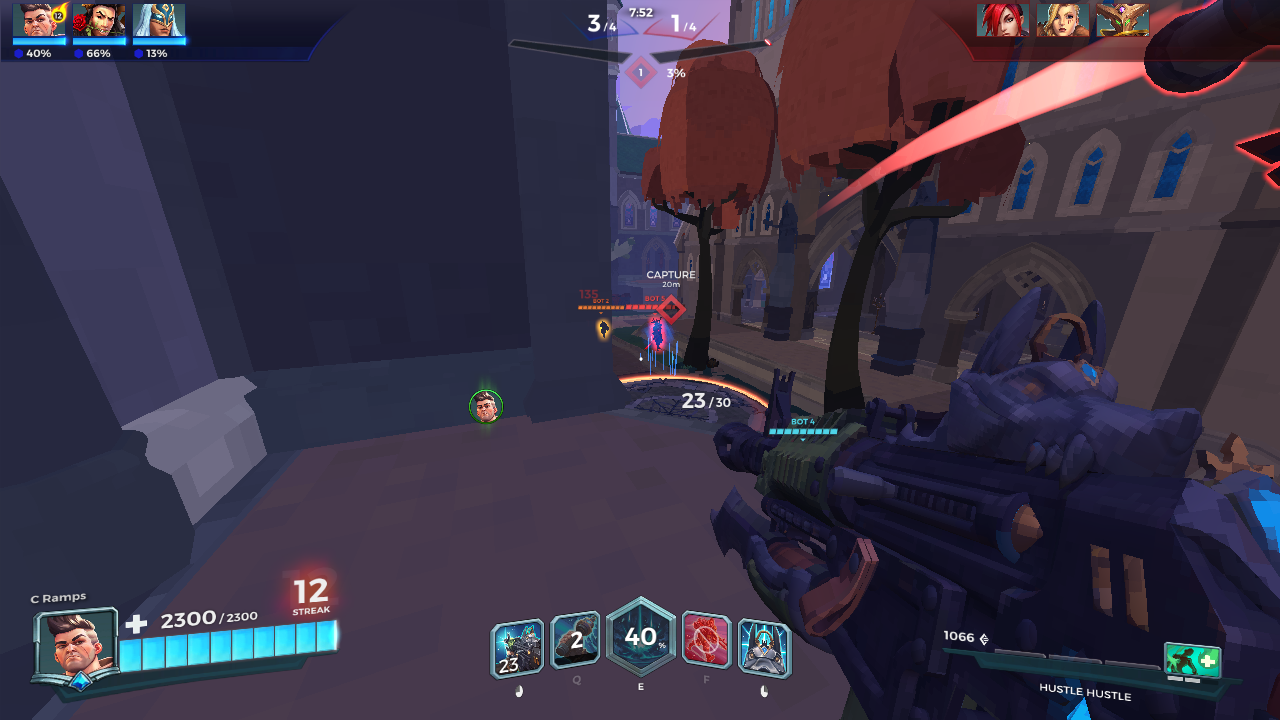model: (646, 314, 668, 360), (591, 316, 615, 341)
